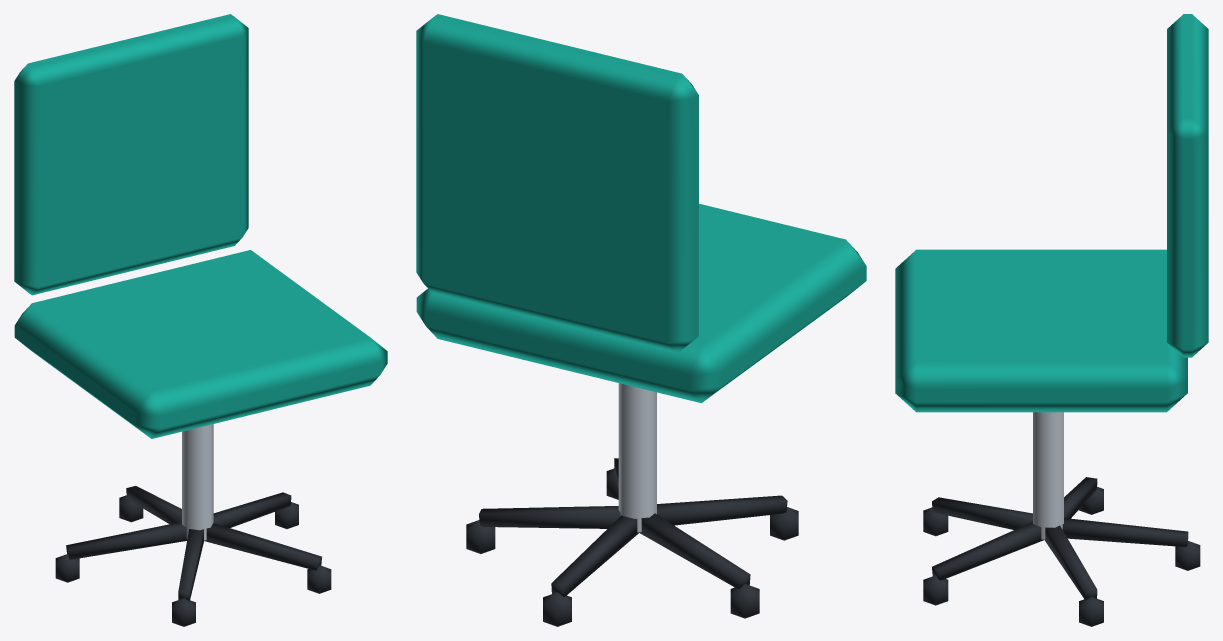
The model's file is CM_Interior_OfficeChair.fbx.
3 renders of one model, left to right at view 1: azimuth 30°, elevation 25°; view 2: azimuth 150°, elevation 25°; view 3: azimuth 270°, elevation 25°, orthographic. The views are drawn at different scales.
Parts seen in each view (by area): view 1: Body; view 2: Body; view 3: Body.
Part boxes in pixels (x1=…): Body: x1=14, y1=14, x2=387, y2=626; Body: x1=416, y1=14, x2=866, y2=626; Body: x1=895, y1=14, x2=1208, y2=626.
Size of the model in its own units: 2.2 by 2.25 by 4.
Materials: 1 (1 with a texture image).
